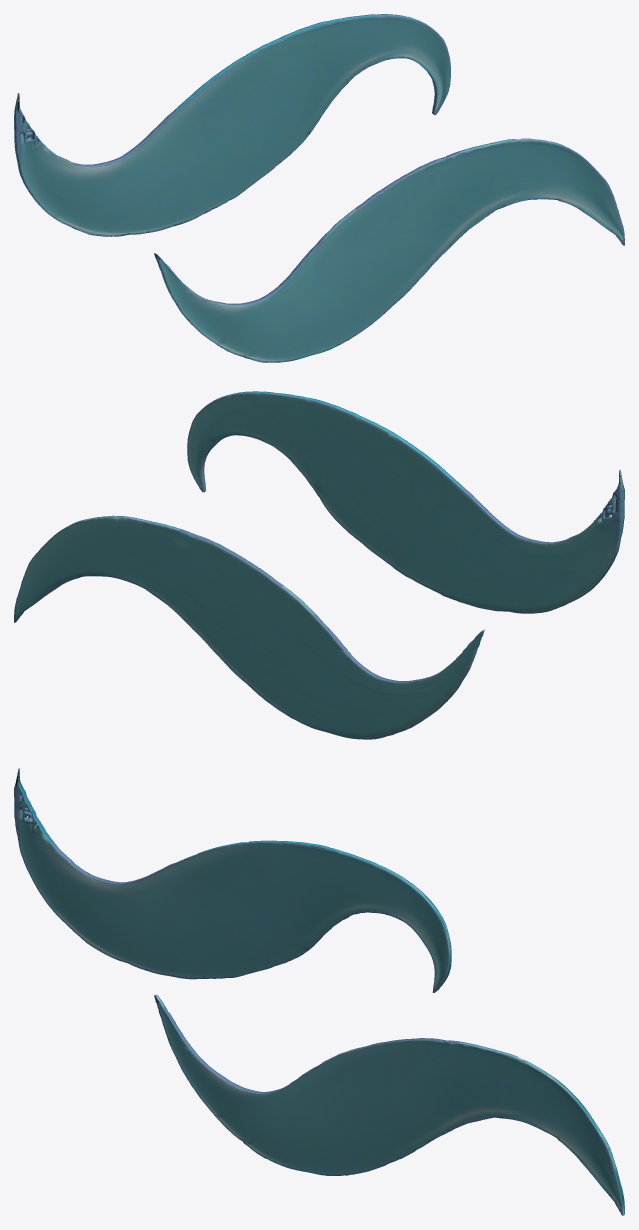
Rendered from tailwind.glb.
The picture shows the model from 3 angles, top to bottom: view 1: azimuth 30°, elevation 25°; view 2: azimuth 150°, elevation 25°; view 3: azimuth 330°, elevation 25°; orthographic projection.
Size of the model in its own units: 2 by 1.05 by 0.0184.
1 material, 1 textured.
